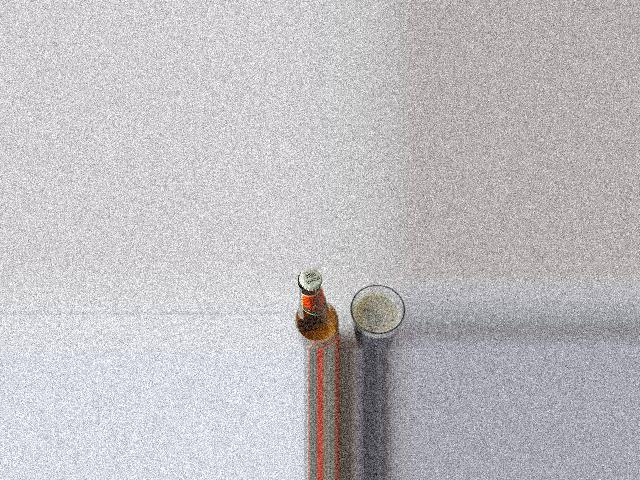beer: (295, 269, 340, 350)
